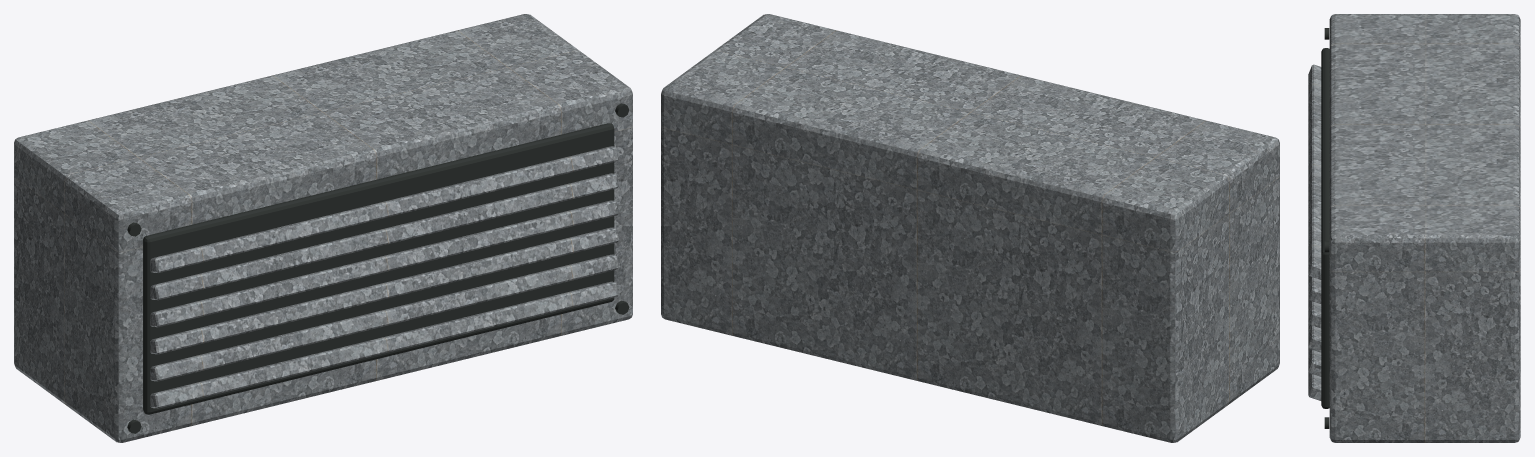
Rendered from ventilation_unit.glb.
3 renders of one model, left to right at view 1: azimuth 30°, elevation 25°; view 2: azimuth 150°, elevation 25°; view 3: azimuth 270°, elevation 25°, orthographic. The views are drawn at different scales.
Parts seen in each view (by area): view 1: Galvanized duct casing, Duct interior; view 2: Galvanized duct casing; view 3: Galvanized duct casing, Duct interior.
Part boxes in pixels (left/top/right/bottom): Galvanized duct casing: left=14, top=14, right=632, bottom=442; Duct interior: left=127, top=103, right=629, bottom=433; Galvanized duct casing: left=661, top=14, right=1279, bottom=442; Galvanized duct casing: left=1308, top=14, right=1520, bottom=442; Duct interior: left=1321, top=28, right=1329, bottom=428.
Size of the model in its own units: 1.4 by 0.6 by 0.5555.
Materials: 2 (1 with a texture image).
